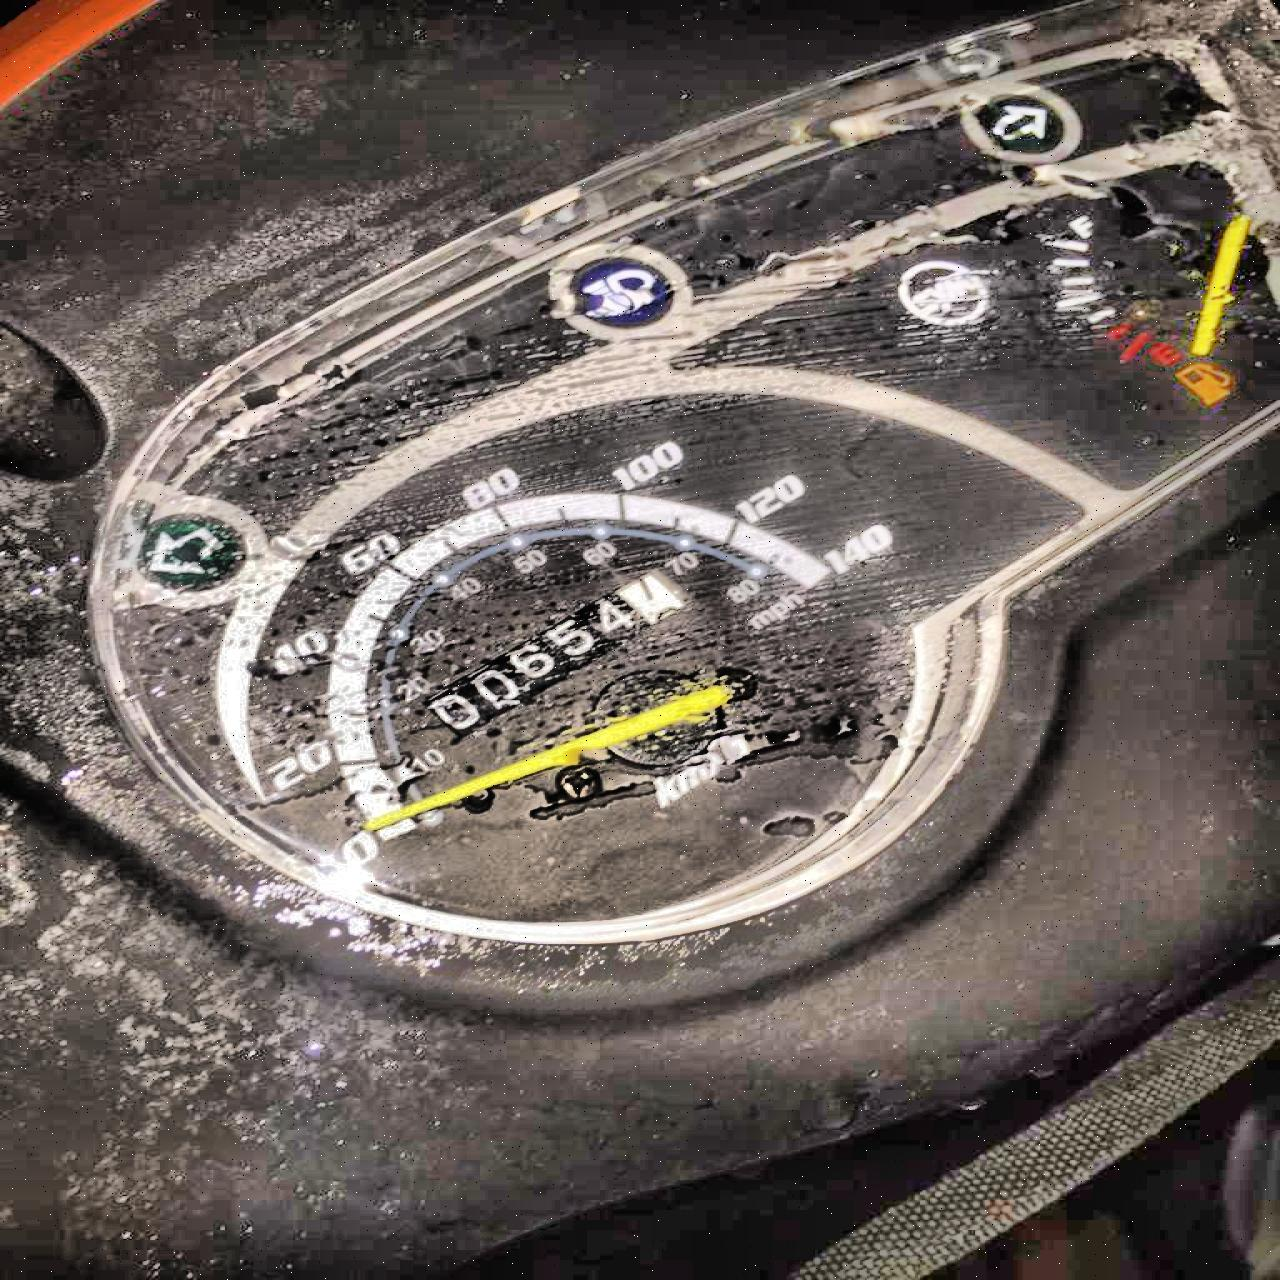0: (467, 669, 520, 704), (429, 692, 478, 728), (422, 626, 445, 646), (459, 573, 483, 592), (410, 674, 431, 693)
3: (410, 636, 431, 654)
4: (591, 597, 636, 632), (447, 584, 468, 600)
5: (542, 620, 597, 652)
6: (509, 641, 553, 678)
7: (620, 574, 660, 605)
odometer: (410, 567, 710, 742)
